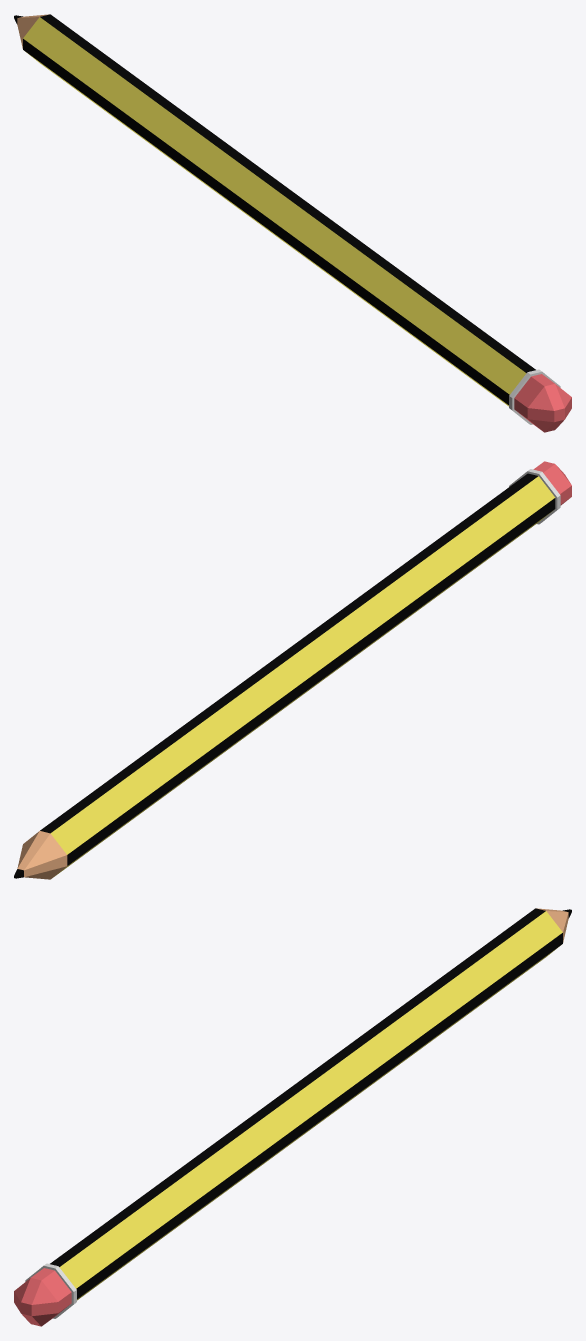
File: Pencil.fbx
The picture shows the model from 3 angles, top to bottom: view 1: azimuth 30°, elevation 25°; view 2: azimuth 150°, elevation 25°; view 3: azimuth 330°, elevation 25°; orthographic projection.
Visible parts, largest first — view 1: Cube; view 2: Cube; view 3: Cube.
Boxes of the visible parts, bbox=[...] form: Cube: bbox=[14, 14, 571, 432]; Cube: bbox=[14, 461, 571, 879]; Cube: bbox=[14, 908, 571, 1326].
Bounding box in the file's own units: 53.68 × 53.68 × 1048.
